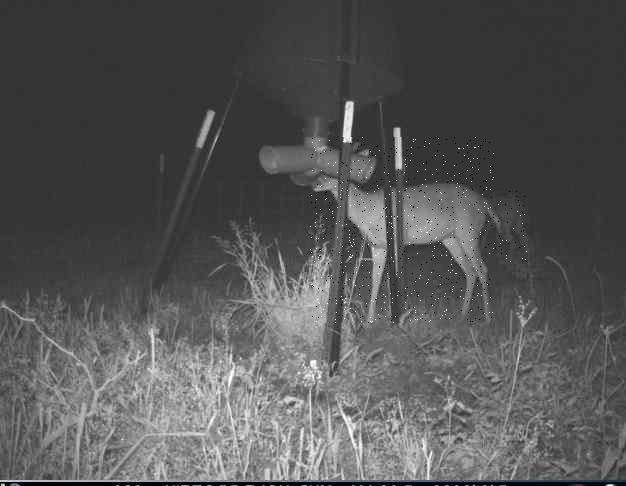Deer: (309, 137, 493, 323), (488, 190, 528, 264)
